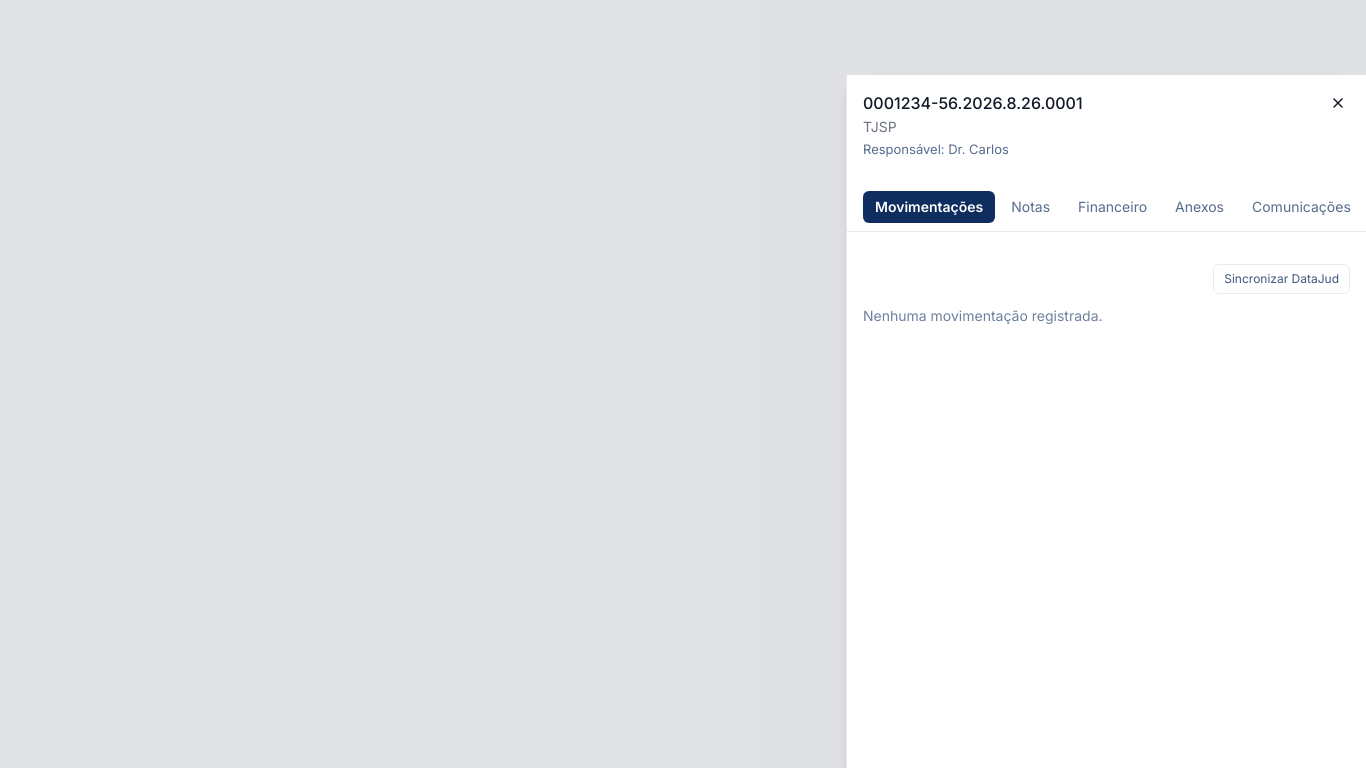
Aba Comunicações — histórico › exibe estado vazio quando histórico está vazio
Click the button "Comunicações" at (1301, 207), box [1240,191,1363,223]
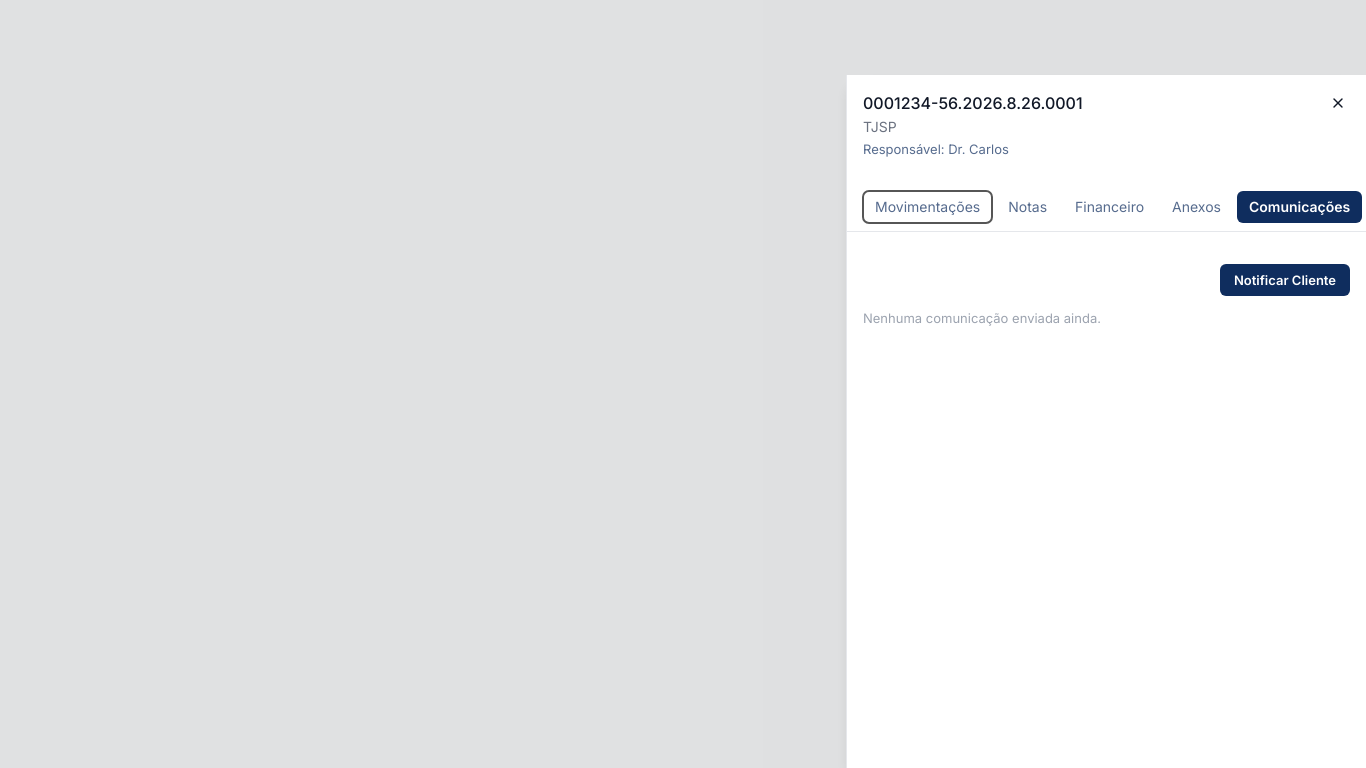
Now the text with test id "comunicacoes-empty" shows "Nenhuma comunicação enviada ainda", box [863,310,1101,326]
